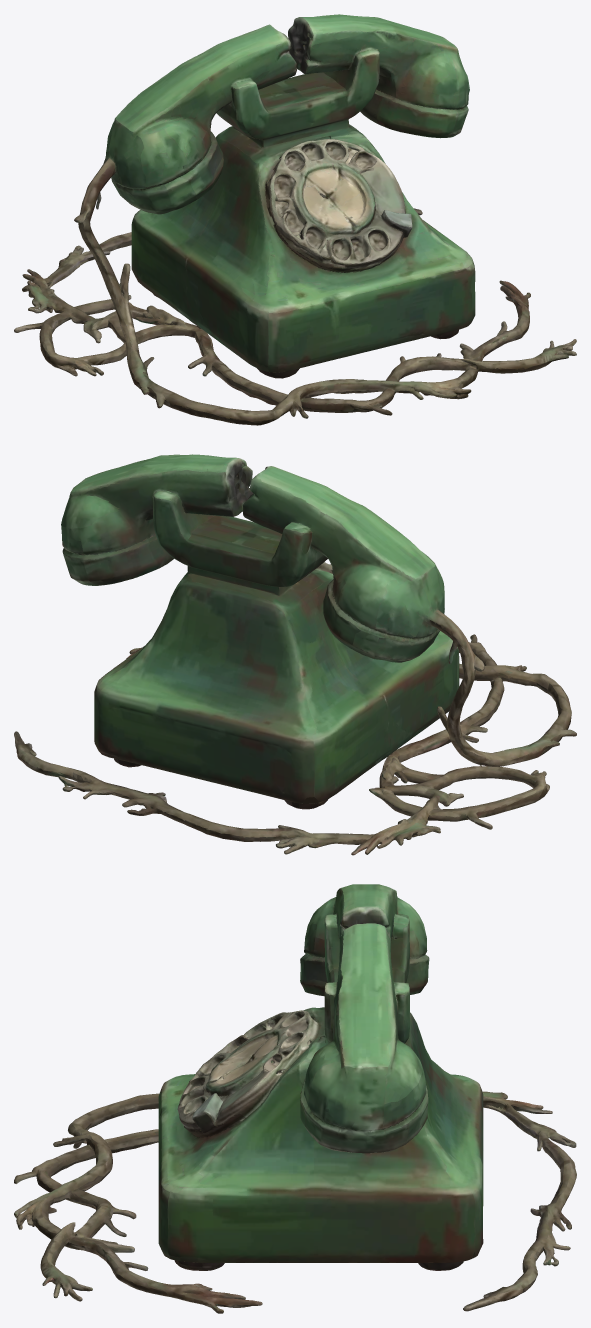
File: phone-broken.glb
The picture shows the model from 3 angles, top to bottom: view 1: azimuth 30°, elevation 25°; view 2: azimuth 150°, elevation 25°; view 3: azimuth 270°, elevation 25°; orthographic projection. The views are drawn at different scales.
Parts seen in each view (by area): view 1: geometry_0; view 2: geometry_0; view 3: geometry_0.
Boxes of the visible parts, x1,y1,x2,y2 form: geometry_0: (14,14,576,425); geometry_0: (14,454,576,855); geometry_0: (14,884,576,1313).
Bounding box in the file's own units: 0.25 × 0.15 × 0.2479.
1 material, 1 textured.
